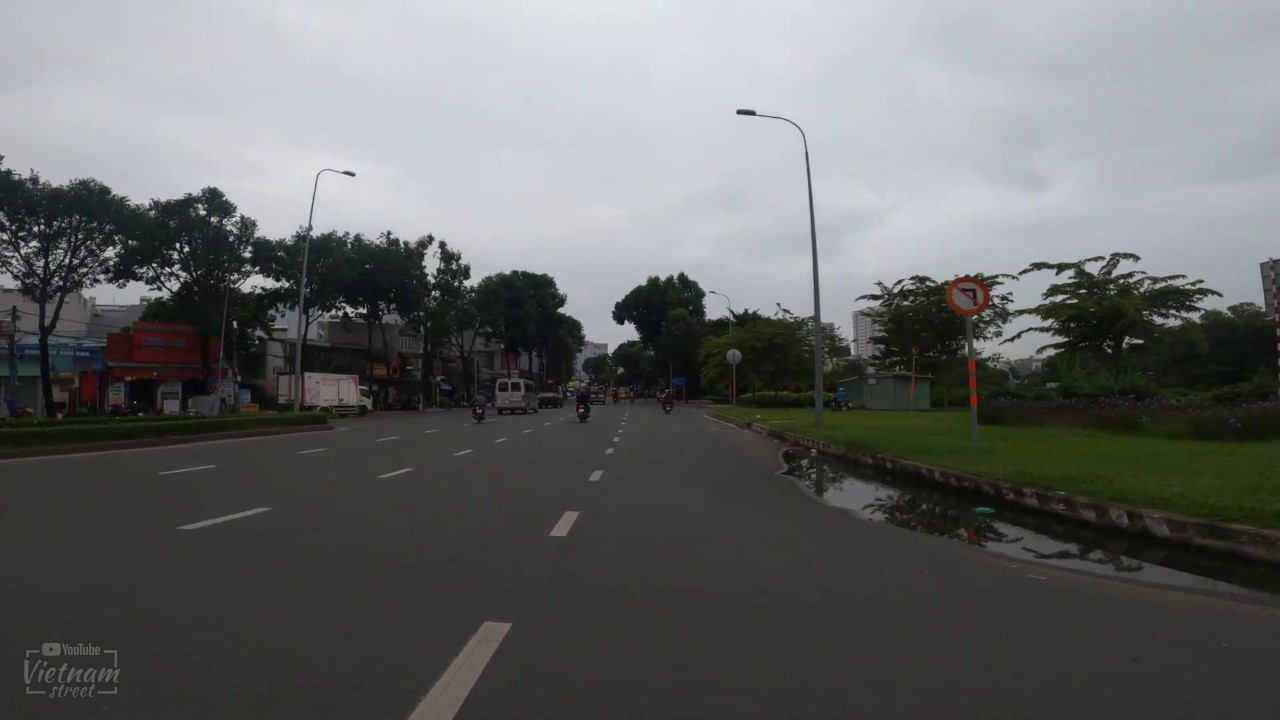cam_re_trai: (946, 276, 990, 316)
